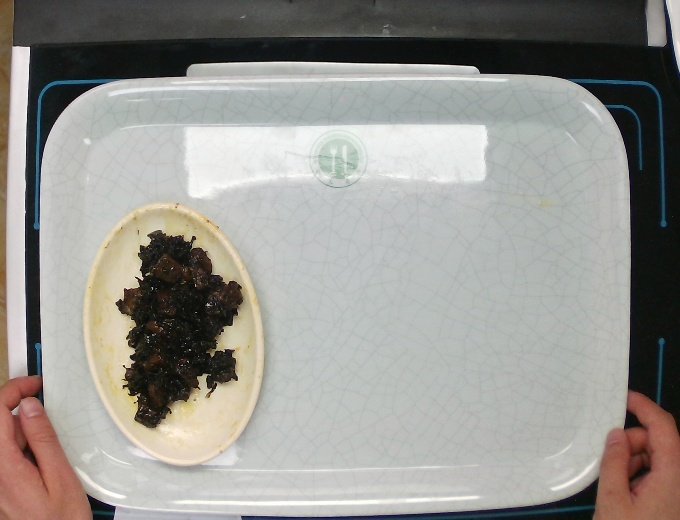JYsf-Tuo_Yuan_Wan: (80, 201, 271, 469)
